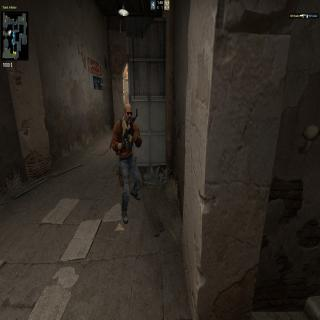T-Head: (122, 102, 134, 124)
